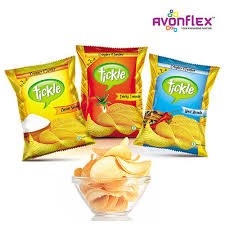plastic: (4, 60, 99, 163), (70, 35, 153, 149), (147, 47, 217, 161)
